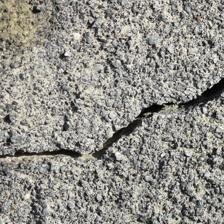Crack: (5, 79, 219, 167)
